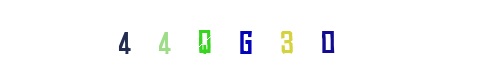3: (226, 0, 306, 80)
4: (84, 0, 164, 80), (164, 0, 244, 80)
G: (200, 0, 280, 80)
O: (246, 0, 326, 80)
Q: (188, 0, 268, 80)
